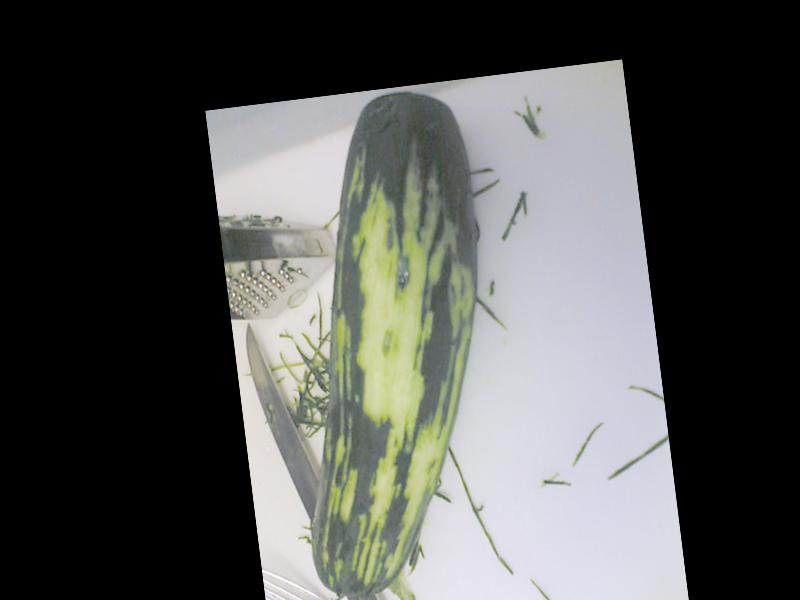Cucumber: (256, 84, 521, 600)
